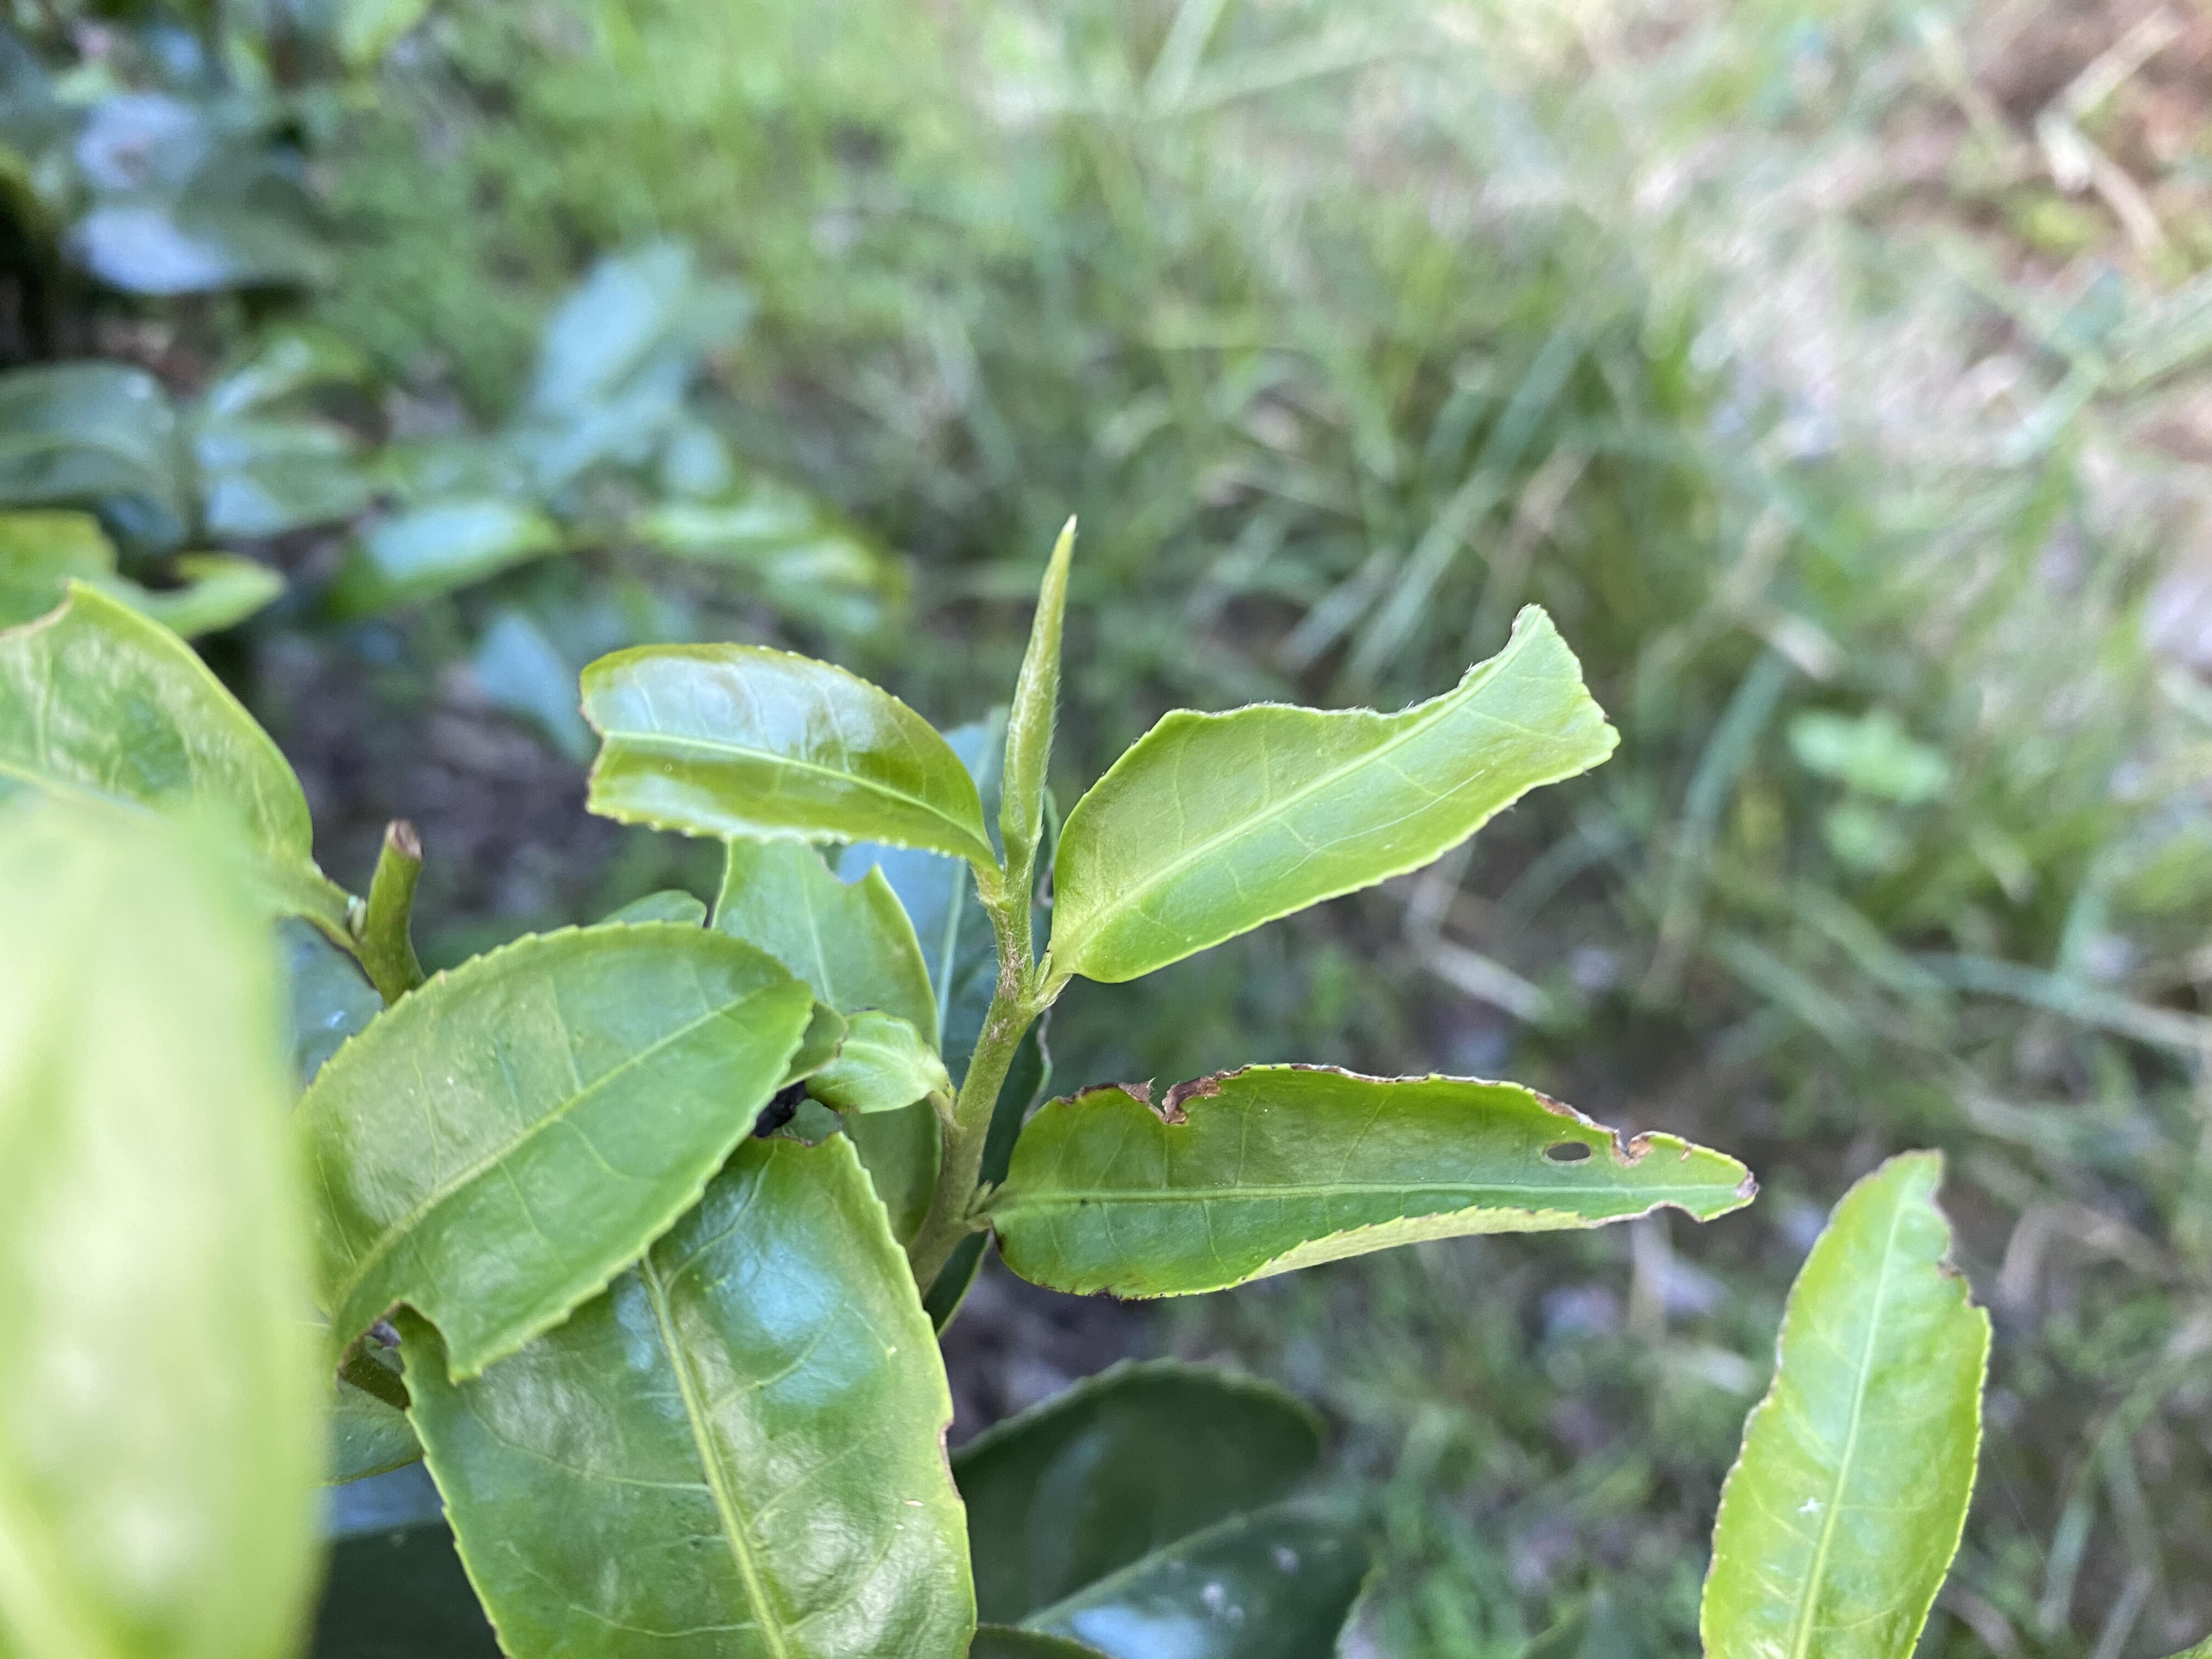chihuo_high: (1054, 605, 1623, 985)
chihuo_low: (287, 917, 815, 1392), (982, 1054, 1763, 1317), (1696, 1145, 1994, 1656), (570, 640, 1000, 875)
